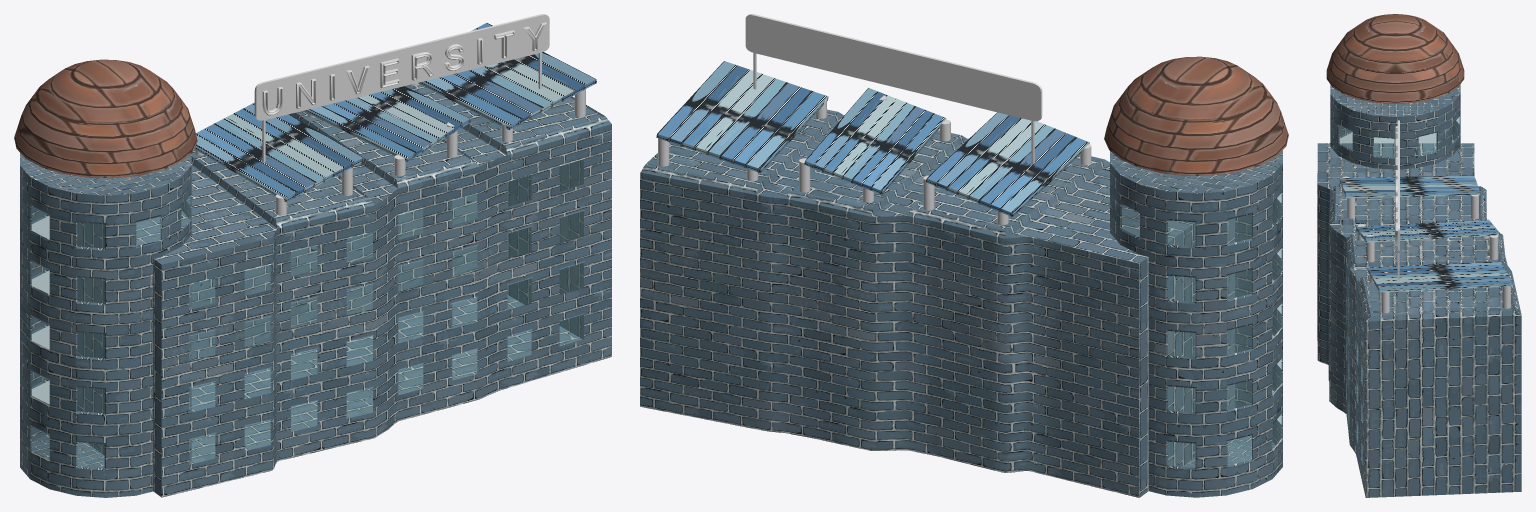
File: University Building TEXTURED.FBX
3 renders of one model, left to right at view 1: azimuth 30°, elevation 25°; view 2: azimuth 150°, elevation 25°; view 3: azimuth 270°, elevation 25°, orthographic. The views are drawn at different scales.
Visible parts, largest first — view 1: Box001, Cylinder001, Object002, Box005, Box004, Box002, Box003, Text001; view 2: Box001, Cylinder001, Object002, Box005, Box002, Box004, Box003; view 3: Box001, Object002, Cylinder001, Box002, Box004, Box003, Box005, Text001.
Part boxes in pixels (left/top/right/bottom): Box001: left=77, top=84, right=611, bottom=497; Cylinder001: left=20, top=153, right=191, bottom=497; Object002: left=14, top=59, right=197, bottom=178; Box005: left=254, top=14, right=549, bottom=120; Box004: left=194, top=102, right=363, bottom=201; Box002: left=418, top=23, right=596, bottom=129; Box003: left=303, top=86, right=470, bottom=161; Text001: left=262, top=22, right=546, bottom=115; Box001: left=640, top=109, right=1234, bottom=497; Cylinder001: left=1110, top=150, right=1282, bottom=497; Object002: left=1104, top=56, right=1288, bottom=175; Box005: left=745, top=14, right=1042, bottom=121; Box002: left=656, top=61, right=828, bottom=173; Box004: left=926, top=112, right=1089, bottom=216; Box003: left=804, top=88, right=946, bottom=194; Box001: left=1317, top=143, right=1521, bottom=497; Object002: left=1326, top=14, right=1464, bottom=103; Cylinder001: left=1330, top=85, right=1460, bottom=341; Box002: left=1367, top=261, right=1512, bottom=292; Box004: left=1340, top=175, right=1480, bottom=198; Box003: left=1356, top=219, right=1499, bottom=242; Box005: left=1397, top=120, right=1399, bottom=252; Text001: left=1395, top=126, right=1397, bottom=246.
Size of the model in its own units: 96.3 by 64.01 by 39.77.
4 materials, 3 textured.
